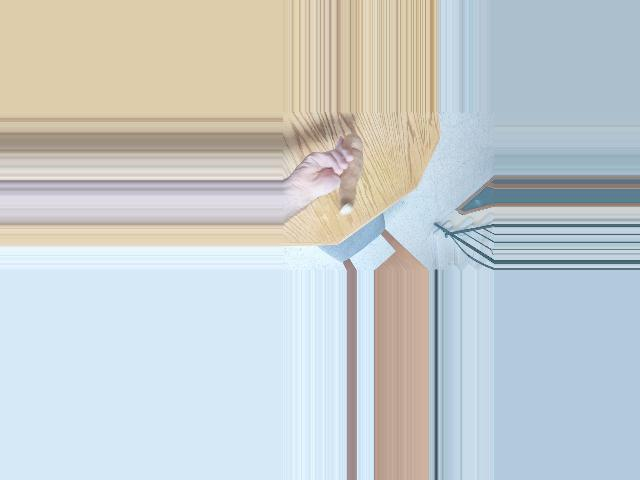sweet_potato: (331, 133, 366, 212)
